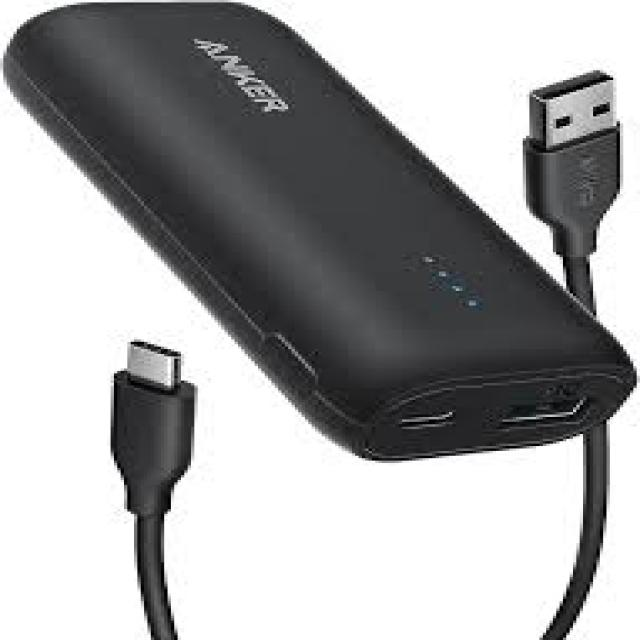power_bank: (2, 1, 640, 464)
